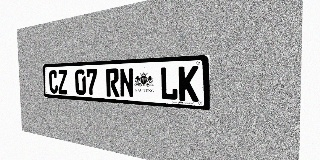0: (75, 69, 86, 95)
7: (86, 69, 98, 96)
C: (49, 70, 58, 94)
K: (178, 66, 199, 102)
L: (160, 66, 178, 101)
N: (119, 68, 134, 98)
R: (106, 68, 119, 97)
Z: (58, 70, 68, 94)
